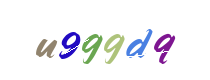9: (31, 0, 111, 80)
D: (88, 0, 168, 80)
G: (64, 0, 144, 80), (66, 0, 146, 80)
Q: (124, 0, 204, 80)
U: (30, 0, 110, 80)
